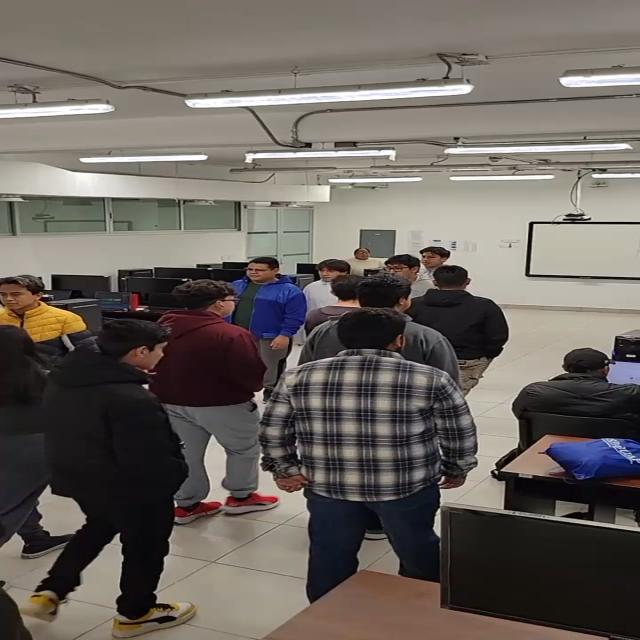Persona: (37, 315, 194, 637), (272, 308, 443, 588), (154, 275, 276, 527), (420, 265, 508, 399), (228, 253, 296, 381)
